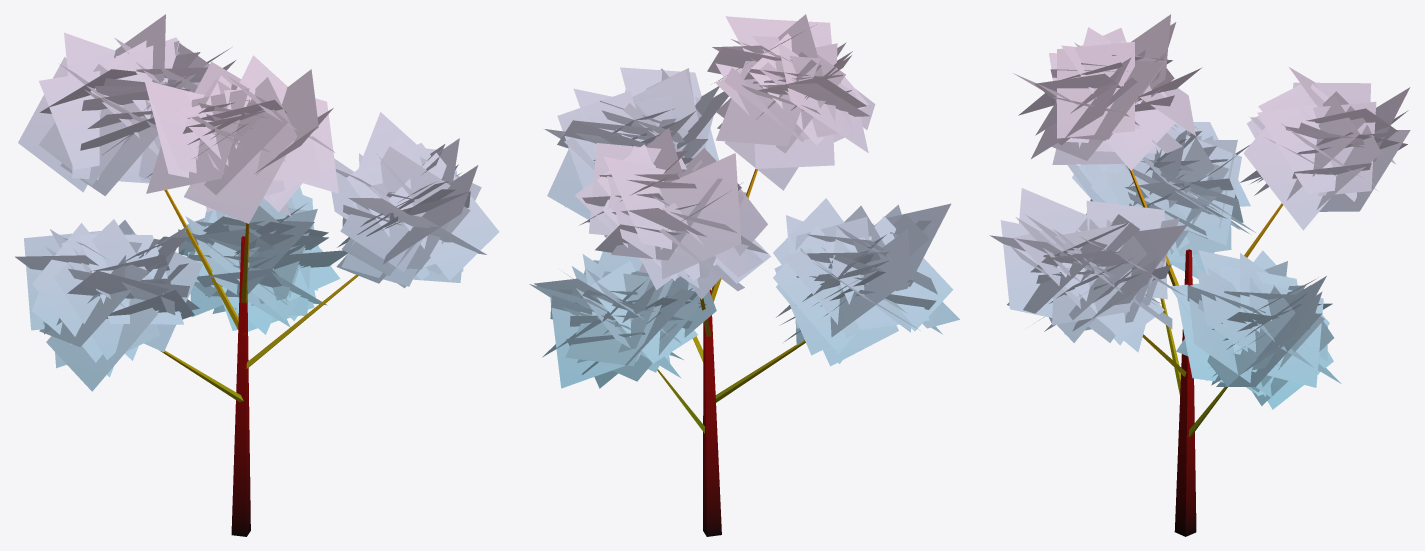
File: sycamore-lod2.glb
3 views of the same model, side by side, from view 1: azimuth 30°, elevation 25°; view 2: azimuth 150°, elevation 25°; view 3: azimuth 270°, elevation 25° (orthographic). The views are drawn at different scales.
Visible parts, largest first — view 1: sycamore canopy, sycamore trunk and branches; view 2: sycamore canopy, sycamore trunk and branches; view 3: sycamore canopy, sycamore trunk and branches.
Boxes of the visible parts, <box> form: sycamore canopy: <box>15,14,499,391</box>; sycamore trunk and branches: <box>160,189,358,536</box>; sycamore canopy: <box>529,14,959,388</box>; sycamore trunk and branches: <box>657,169,805,536</box>; sycamore canopy: <box>989,14,1410,409</box>; sycamore trunk and branches: <box>1129,169,1282,536</box>.
Bounding box in the file's own units: 13.52 × 15.38 × 12.44.
